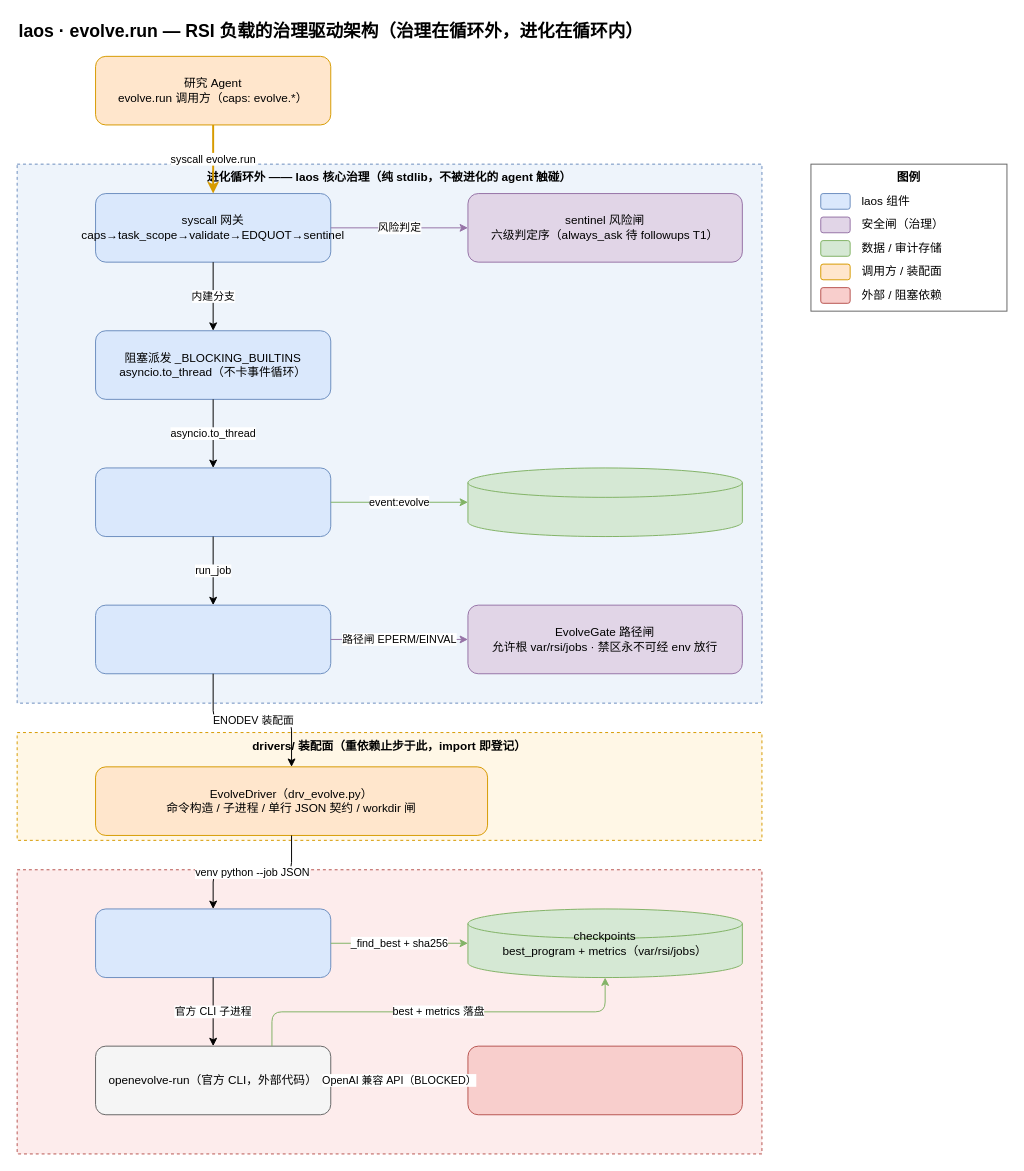
Some shapes in this 1024 by 1171 pixel diagram are drawn without their labels. The shapes that lost their labels are listed below. From the top down, each one's box as (x1, y1, x2, y2) in pixels, then its label:
(95, 467, 331, 537): _impl_evolve_run 异常→CallResult fail-loud
(467, 467, 742, 537): AuditLog syscall+evolve 双行审计 · _wlock
(95, 604, 331, 674): run_job 装配面 ENODEV 兜底（不 import 驱动即拒绝）
(95, 908, 331, 978): openevolve_job venv 内执行器（官方 CLI 稳定面）
(16, 869, 762, 1154): 进化循环内 —— venv 子进程（gitignored var/，OpenEvolve 0.4.0）
(467, 1045, 742, 1115): LLM 后端（OpenAI 兼容） 当前 BLOCKED —— 解锁见 OBSERVATIONS.md
